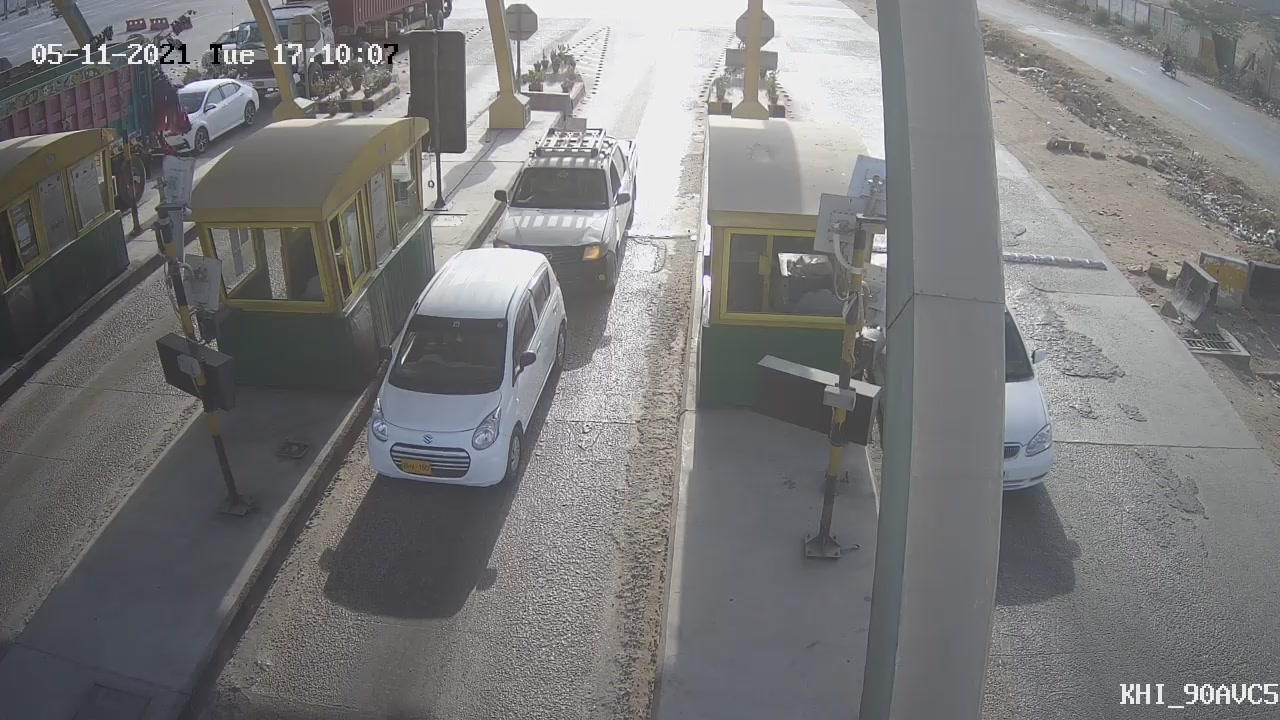F1: (344, 231, 595, 511), (476, 104, 655, 318)
